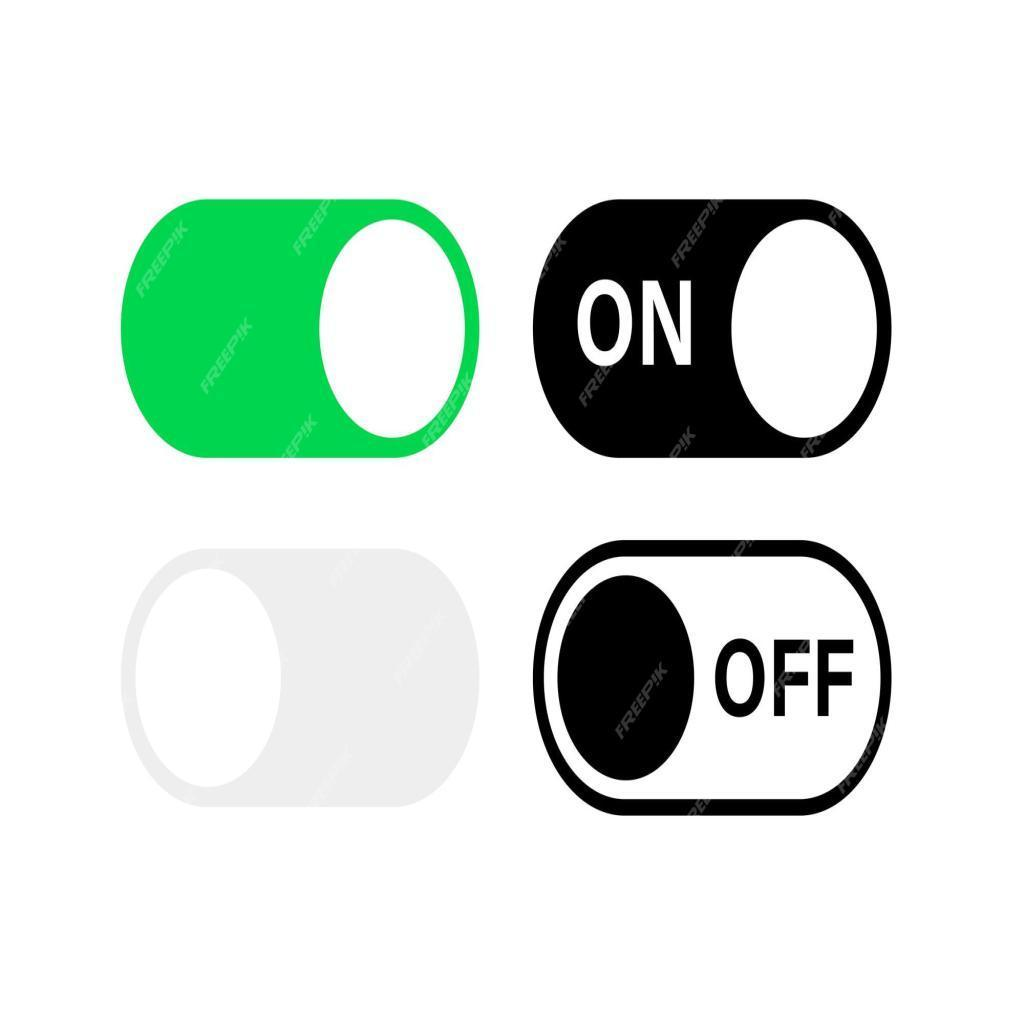switch: (527, 537, 894, 817), (530, 196, 891, 462), (120, 550, 486, 806), (118, 201, 482, 458)
